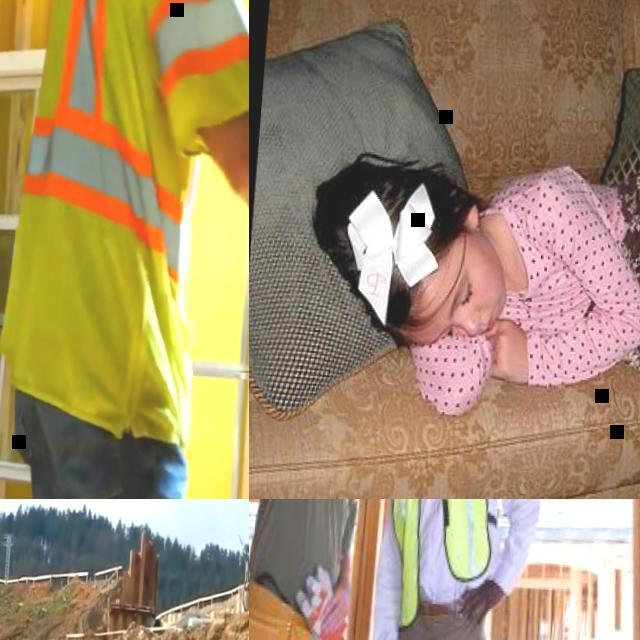vest: (0, 0, 249, 453), (384, 499, 498, 629)
